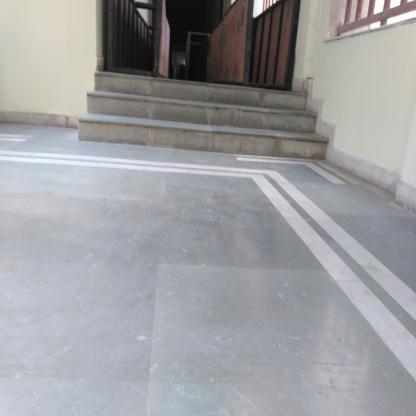stairs: (96, 88, 309, 157)
